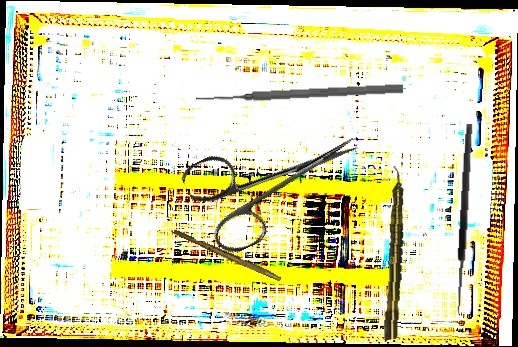Handpiece: (382, 165, 408, 341)
Hook Surgical: (453, 123, 483, 317)
Iris Scissors: (178, 96, 376, 261)
Pusher: (195, 81, 404, 106)
Scalpel Handle: (172, 228, 283, 282)
